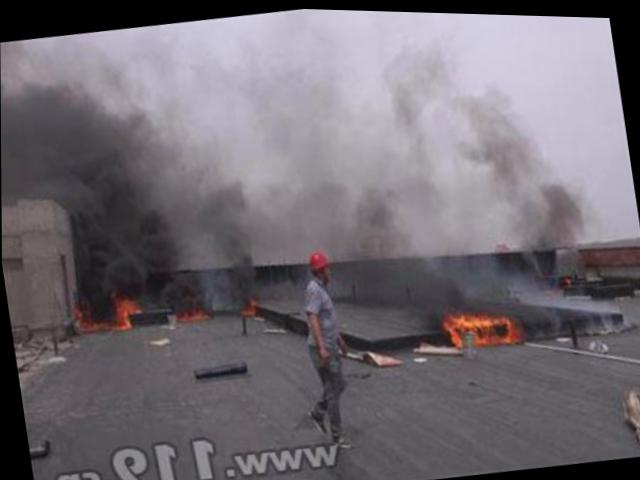fire: (447, 302, 518, 345), (111, 293, 140, 327)
